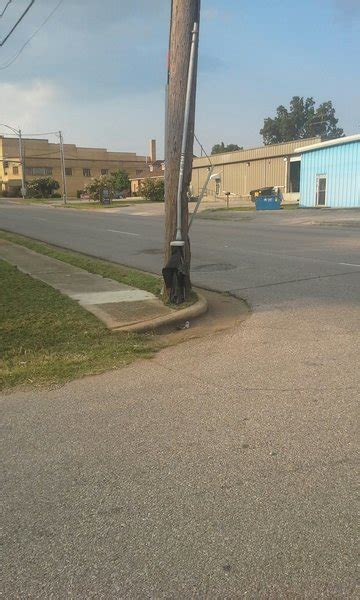pole: (129, 1, 233, 310)
